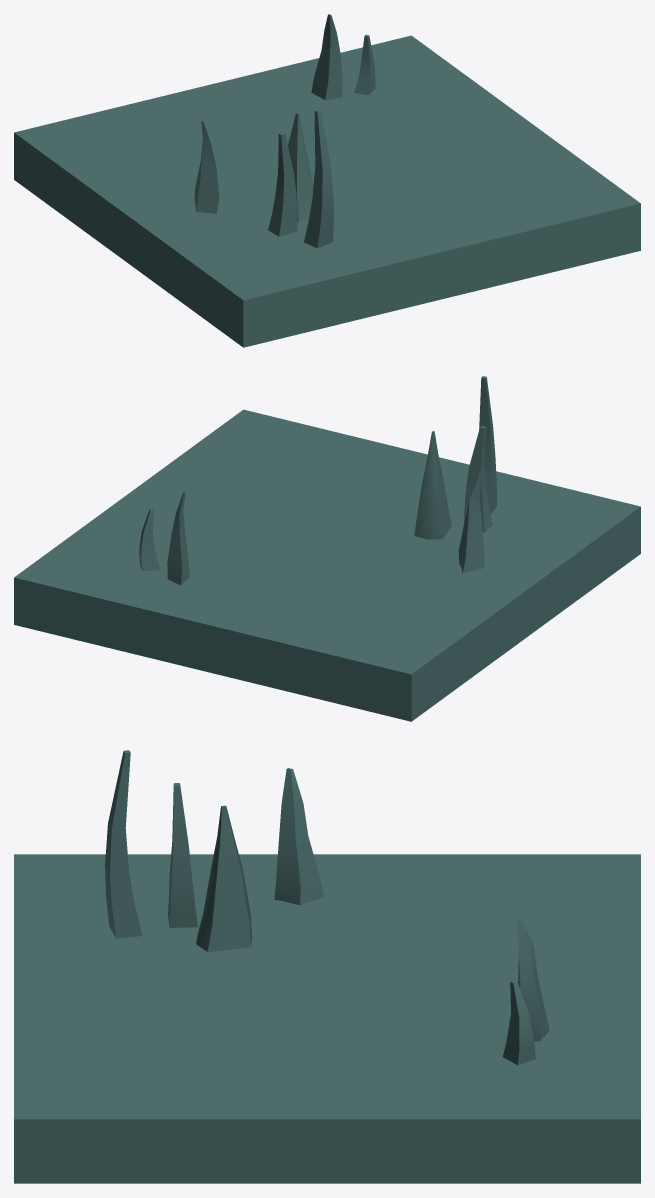
The model's file is ASSET_ENV_tilebase.fbx.
3 renders of one model, top to bottom at view 1: azimuth 30°, elevation 25°; view 2: azimuth 150°, elevation 25°; view 3: azimuth 270°, elevation 25°, orthographic. The views are drawn at different scales.
Visible parts, largest first — view 1: TILE_BASE; view 2: TILE_BASE; view 3: TILE_BASE.
Part boxes in pixels (x1,y1,x2,y2): TILE_BASE: (14,14,640,347); TILE_BASE: (14,376,640,721); TILE_BASE: (14,750,640,1183).
Bounding box in the file's own units: 1 × 0.4296 × 1.
